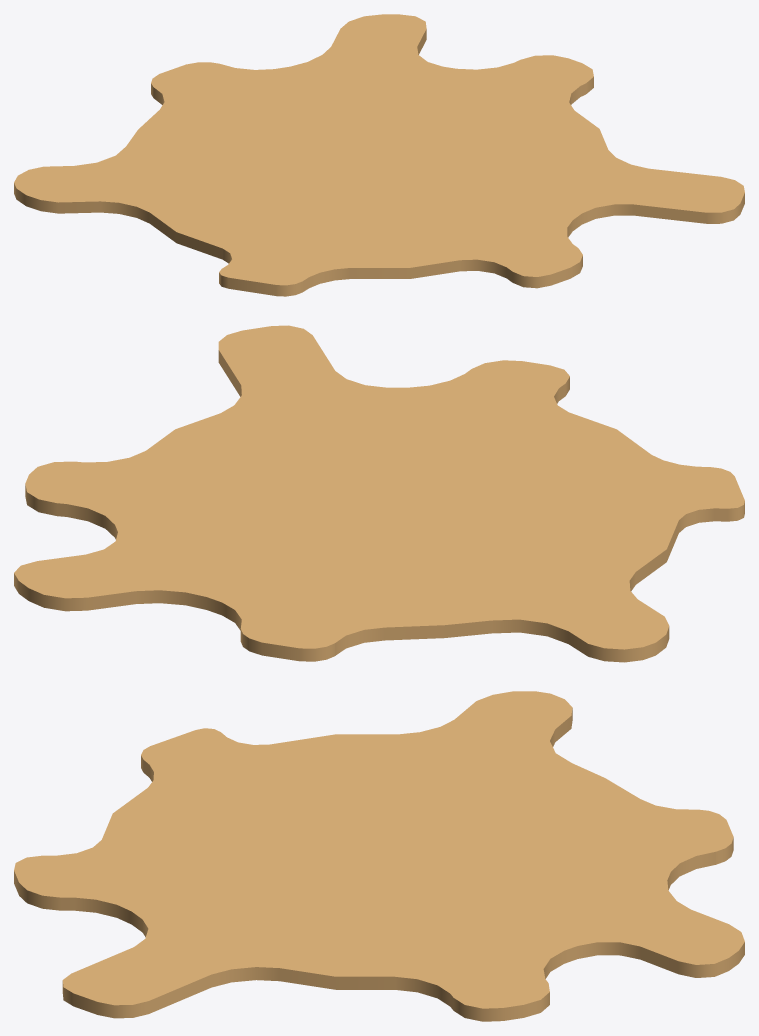
File: Mayo.Splatter.fbx
3 renders of one model, top to bottom at view 1: azimuth 30°, elevation 25°; view 2: azimuth 150°, elevation 25°; view 3: azimuth 270°, elevation 25°, orthographic. The views are drawn at different scales.
Visible parts, largest first — view 1: Mayo.Splatter; view 2: Mayo.Splatter; view 3: Mayo.Splatter.
Part boxes in pixels (x1,y1,x2,y2): Mayo.Splatter: (14, 14, 744, 296); Mayo.Splatter: (14, 325, 744, 662); Mayo.Splatter: (14, 691, 744, 1021).
Size of the model in its own units: 55.72 by 1.07 by 54.21.
